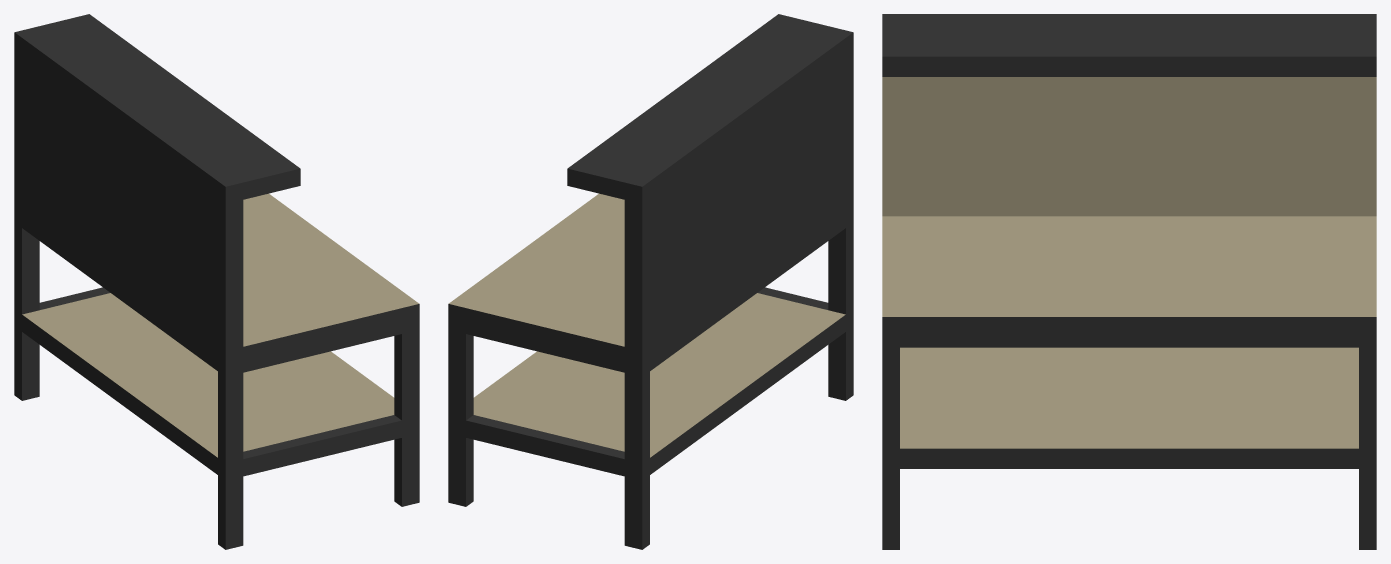
Rendered from mesaTrabajo.fbx.
The picture shows the model from 3 angles, left to right: view 1: azimuth 30°, elevation 25°; view 2: azimuth 150°, elevation 25°; view 3: azimuth 270°, elevation 25°; orthographic projection. The views are drawn at different scales.
Visible parts, largest first — view 1: Cube.003; view 2: Cube.003; view 3: Cube.003.
Part boxes in pixels (bbox=[...]): Cube.003: bbox=[14, 14, 419, 549]; Cube.003: bbox=[448, 14, 853, 549]; Cube.003: bbox=[882, 14, 1376, 549].
Bounding box in the file's own units: 220 × 394 × 415.
